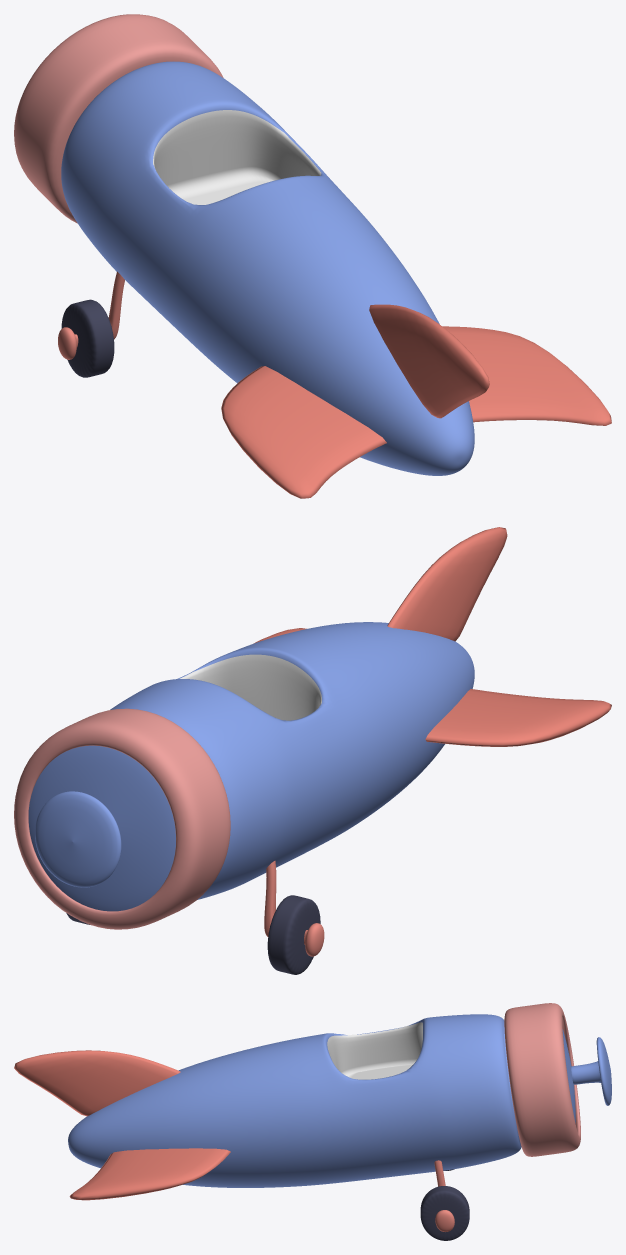
File: EnemyPlane.fbx
3 renders of one model, top to bottom at view 1: azimuth 30°, elevation 25°; view 2: azimuth 150°, elevation 25°; view 3: azimuth 270°, elevation 25°, orthographic. The views are drawn at different scales.
Parts seen in each view (by area): view 1: body, back_wings, frontMetal, tail, wheels, wheel_support; view 2: body, frontMetal, back_wings, tail, Plane, wheels, wheel_support; view 3: body, frontMetal, tail, back_wings, wheels, Plane, wheel_support.
Boxes of the visible parts, x1,y1,x2,y2 form: body: (61, 61, 474, 475); back_wings: (221, 326, 611, 498); frontMetal: (14, 14, 223, 223); tail: (369, 304, 489, 418); wheels: (61, 299, 114, 377); wheel_support: (58, 271, 124, 359); body: (28, 622, 474, 911); frontMetal: (14, 708, 230, 929); back_wings: (253, 628, 611, 746); tail: (387, 527, 507, 641); Plane: (35, 791, 121, 887); wheels: (66, 895, 320, 974); wheel_support: (264, 860, 324, 956); body: (68, 1014, 575, 1187); frontMetal: (504, 1003, 580, 1156); tail: (14, 1050, 180, 1116); back_wings: (69, 1148, 230, 1200); wheels: (420, 1169, 469, 1240); Plane: (571, 1037, 611, 1105); wheel_support: (434, 1160, 454, 1231).
Bounding box in the file's own units: 0.8135 × 0.6547 × 1.83.
